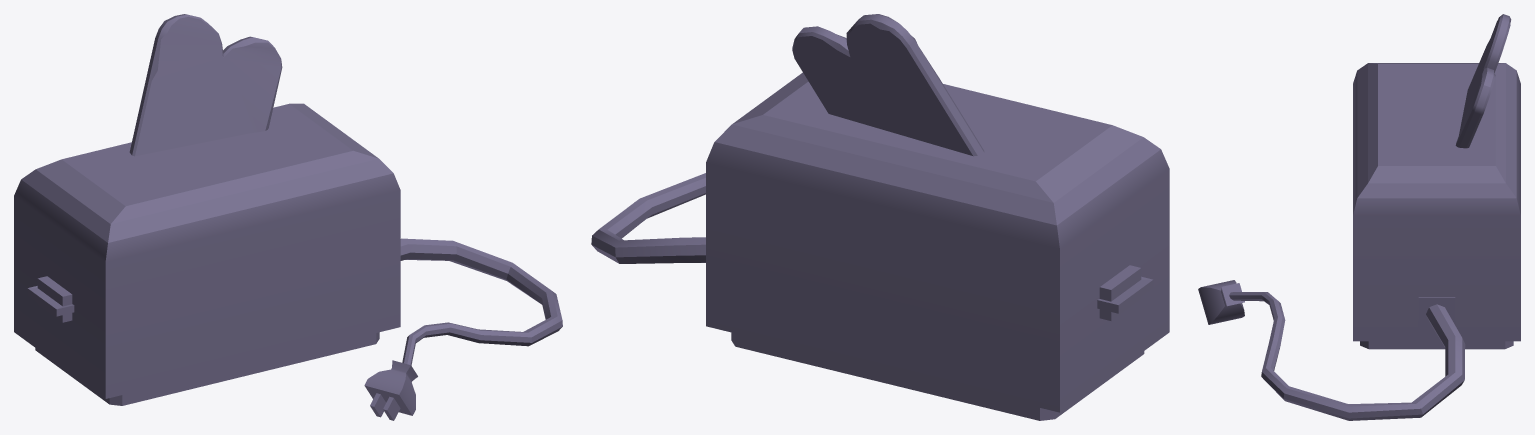
Rendered from SM_Toaster.fbx.
The picture shows the model from 3 angles, left to right: view 1: azimuth 30°, elevation 25°; view 2: azimuth 150°, elevation 25°; view 3: azimuth 270°, elevation 25°; orthographic projection. The views are drawn at different scales.
Parts seen in each view (by area): view 1: SM_Toaster; view 2: SM_Toaster; view 3: SM_Toaster.
Part boxes in pixels (<box>): SM_Toaster: <box>14,14,562,420</box>; SM_Toaster: <box>591,14,1169,420</box>; SM_Toaster: <box>1198,14,1520,420</box>.
Bounding box in the file's own units: 75.93 × 46.81 × 49.57.
